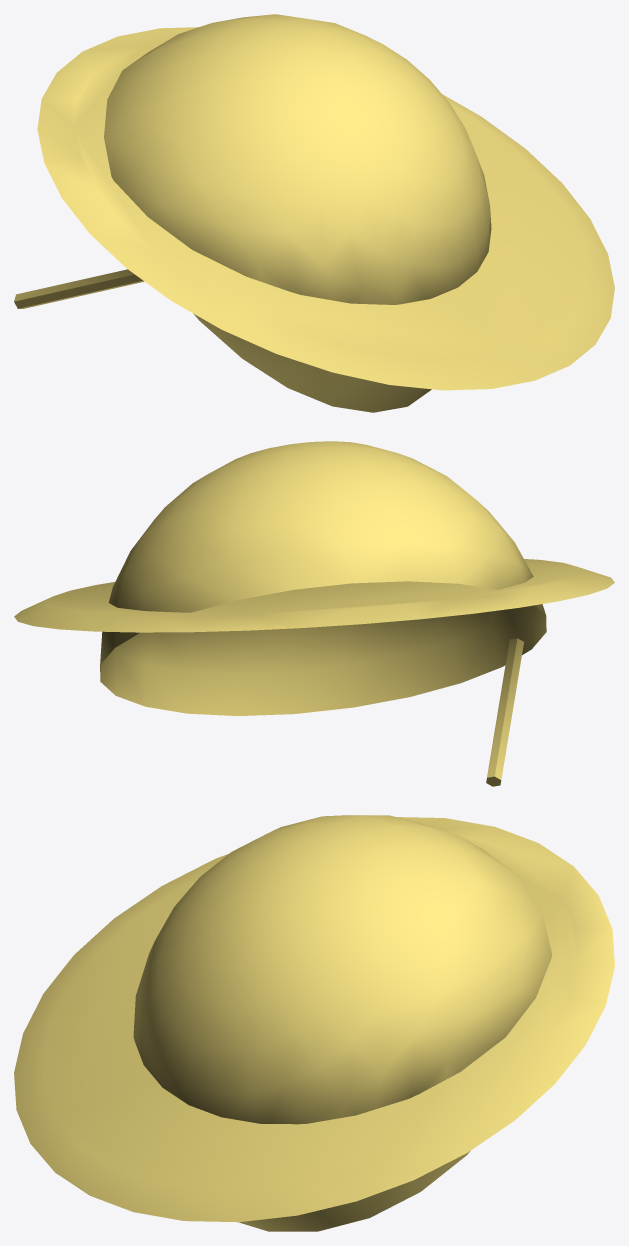
File: rain_head.fbx
3 views of the same model, one above another, from view 1: azimuth 30°, elevation 25°; view 2: azimuth 150°, elevation 25°; view 3: azimuth 270°, elevation 25° (orthographic). The views are drawn at different scales.
Parts seen in each view (by area): view 1: rain_head; view 2: rain_head; view 3: rain_head.
Part boxes in pixels (x1,y1,x2,y2): rain_head: (14, 14, 614, 412); rain_head: (14, 441, 614, 786); rain_head: (14, 815, 614, 1231).
Bounding box in the file's own units: 1.64 × 0.9976 × 1.62.
